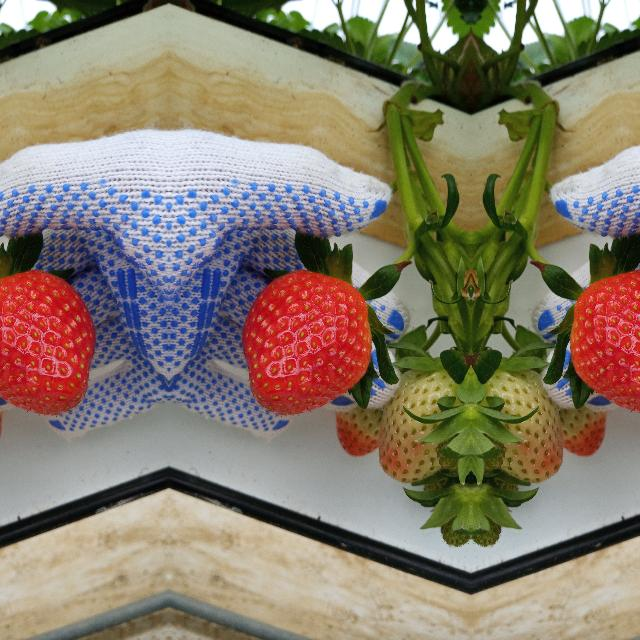Health_100: (240, 270, 372, 416), (0, 270, 96, 416), (569, 270, 640, 416)
Health_50: (378, 361, 470, 483), (471, 361, 563, 483)
